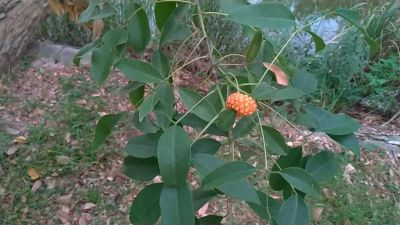eggs: (224, 89, 260, 115)
